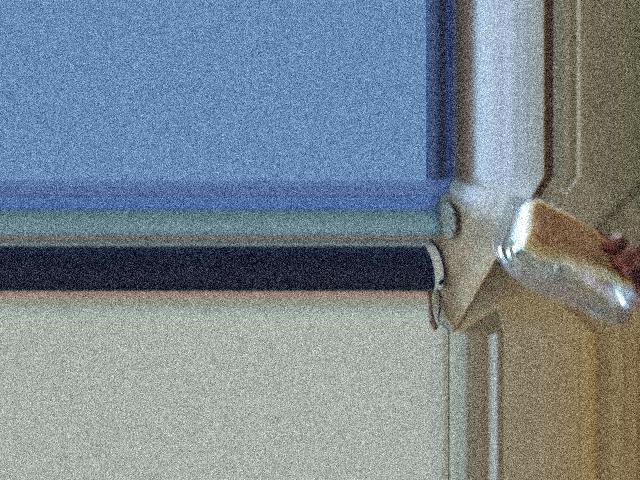cheese: (508, 213, 586, 303)
